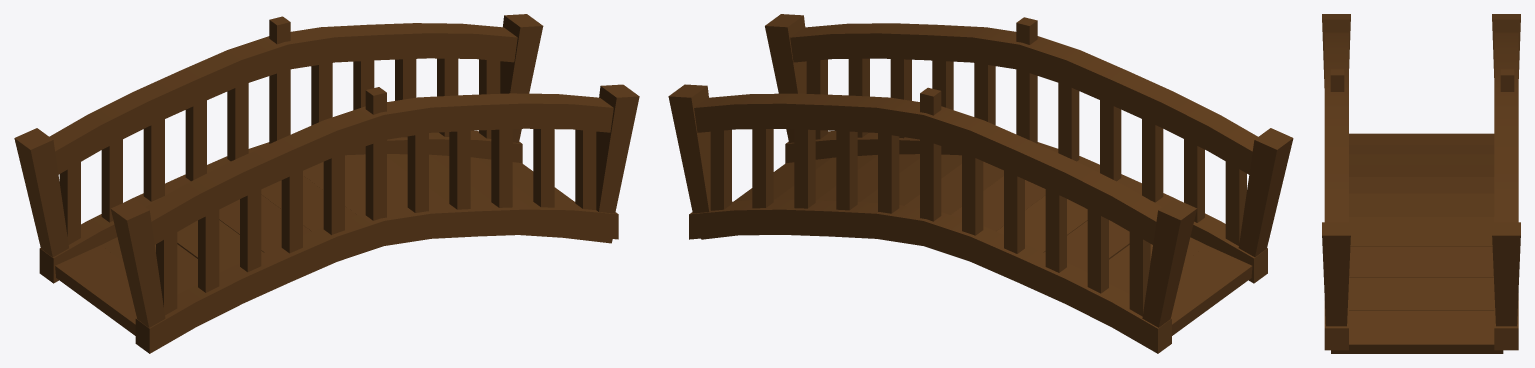
Rendered from Bridge 6.fbx.
3 views of the same model, side by side, from view 1: azimuth 30°, elevation 25°; view 2: azimuth 150°, elevation 25°; view 3: azimuth 270°, elevation 25° (orthographic). The views are drawn at different scales.
Visible parts, largest first — view 1: Bridge_6; view 2: Bridge_6; view 3: Bridge_6.
Boxes of the visible parts, x1,y1,x2,y2 form: Bridge_6: (14,14,639,353); Bridge_6: (668,14,1293,353); Bridge_6: (1322,14,1520,353).
Bounding box in the file's own units: 1084 × 416 × 413.
1 material, 1 textured.
